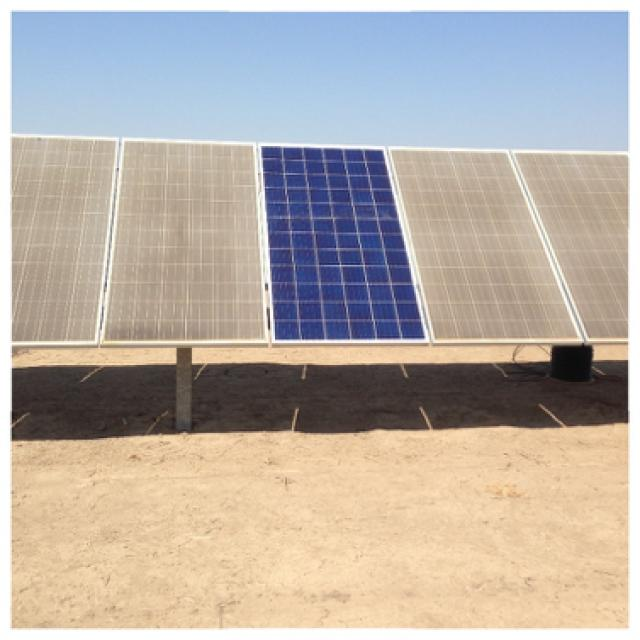dust-solar-panel: (11, 137, 262, 347), (390, 148, 632, 344)
